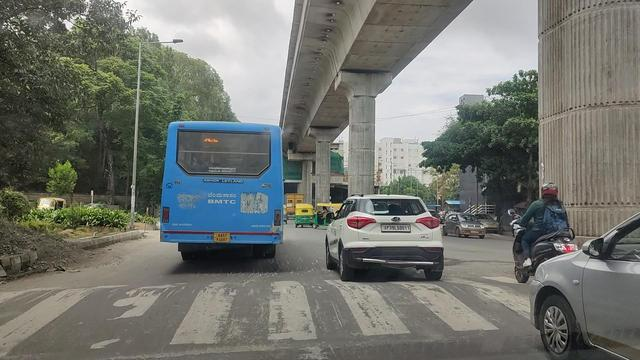LMV: (158, 118, 284, 249), (325, 194, 445, 276)
SpeedBump: (7, 282, 509, 337)
